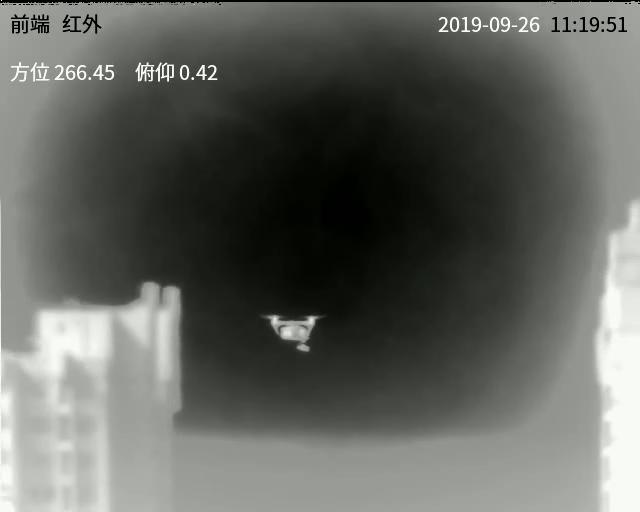uav: (258, 307, 324, 357)
